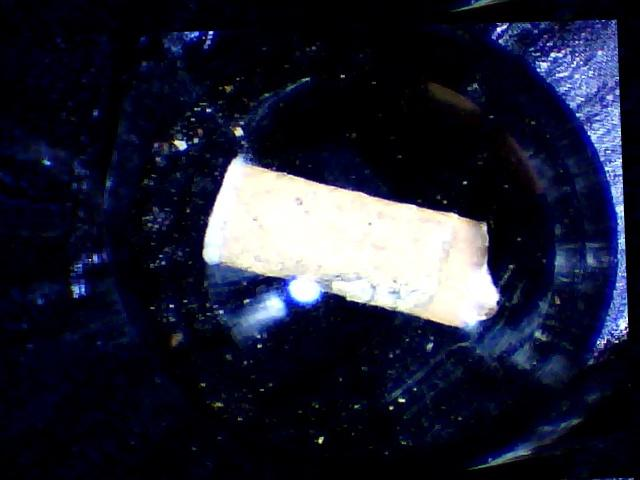megot: (189, 137, 525, 347)
